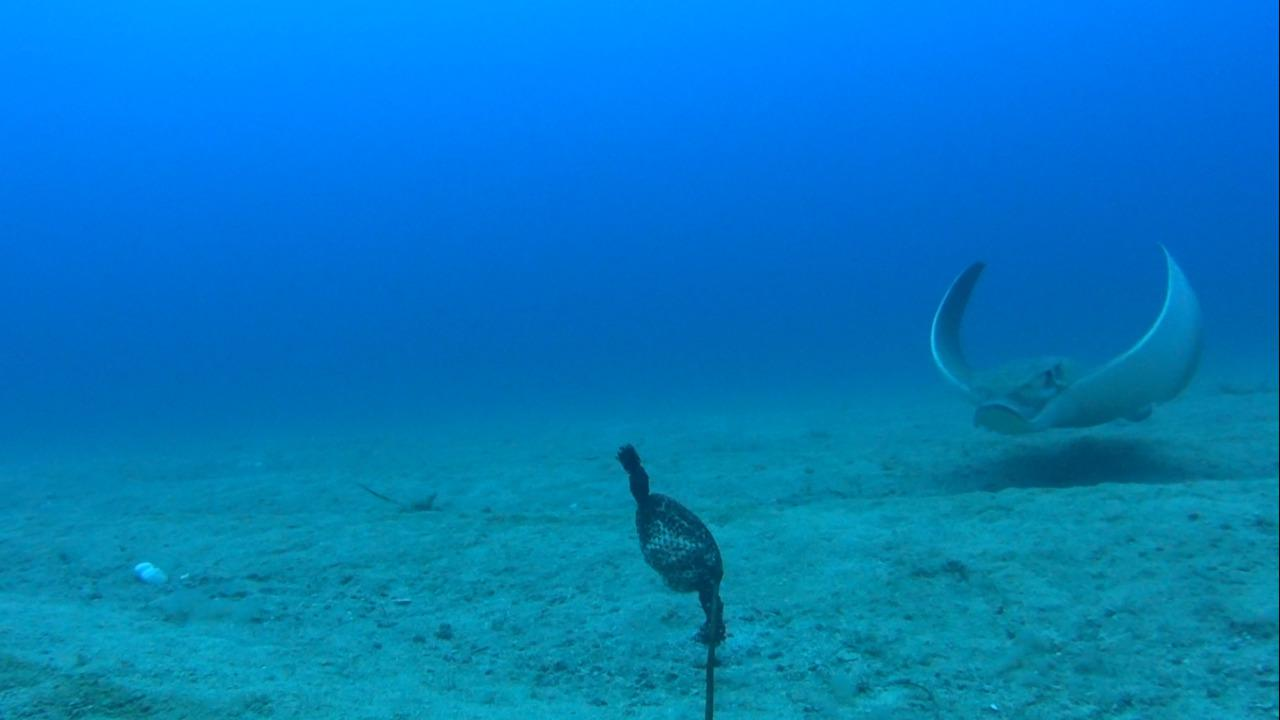myliobatis: (914, 231, 1221, 451)
